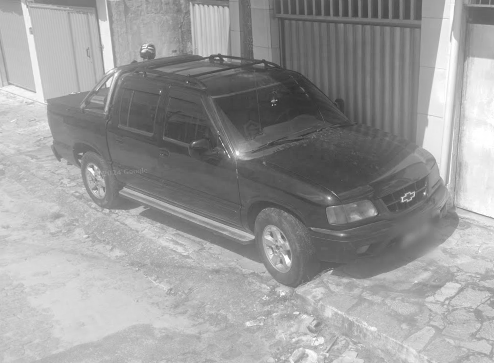car: (45, 49, 446, 295)
